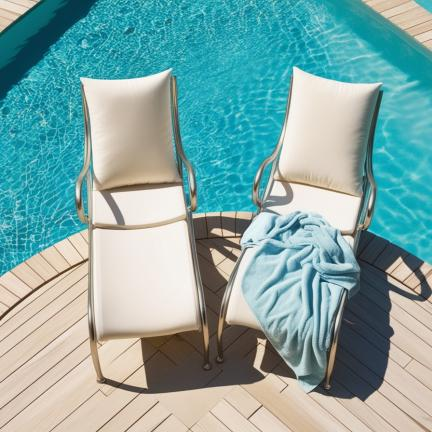empty chair: (75, 69, 211, 383)
occupied chair: (217, 68, 382, 392)
